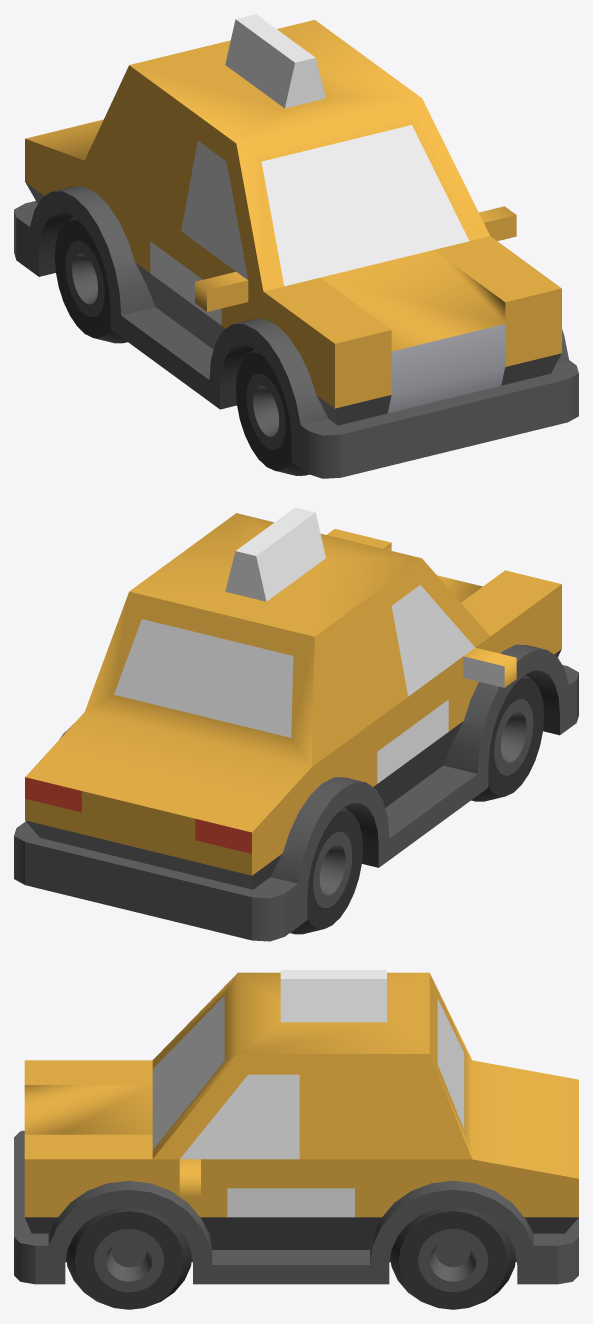
File: taxi.fbx
3 renders of one model, top to bottom at view 1: azimuth 30°, elevation 25°; view 2: azimuth 150°, elevation 25°; view 3: azimuth 270°, elevation 25°, orthographic. The views are drawn at different scales.
Visible parts, largest first — view 1: body, wheel_backRight, wheel_frontRight; view 2: body, wheel_backRight, wheel_frontRight; view 3: body, wheel_backLeft, wheel_frontLeft.
Part boxes in pixels (x1,y1,x2,y2): body: (14, 14, 578, 478); wheel_backRight: (54, 216, 127, 343); wheel_frontRight: (236, 348, 308, 475); body: (14, 507, 578, 941); wheel_backRight: (290, 807, 362, 934); wheel_frontRight: (471, 674, 544, 801); body: (14, 970, 578, 1284); wheel_backLeft: (390, 1207, 515, 1309); wheel_frontLeft: (66, 1207, 191, 1309).
Bounding box in the file's own units: 1.5 × 1.5 × 2.65.
